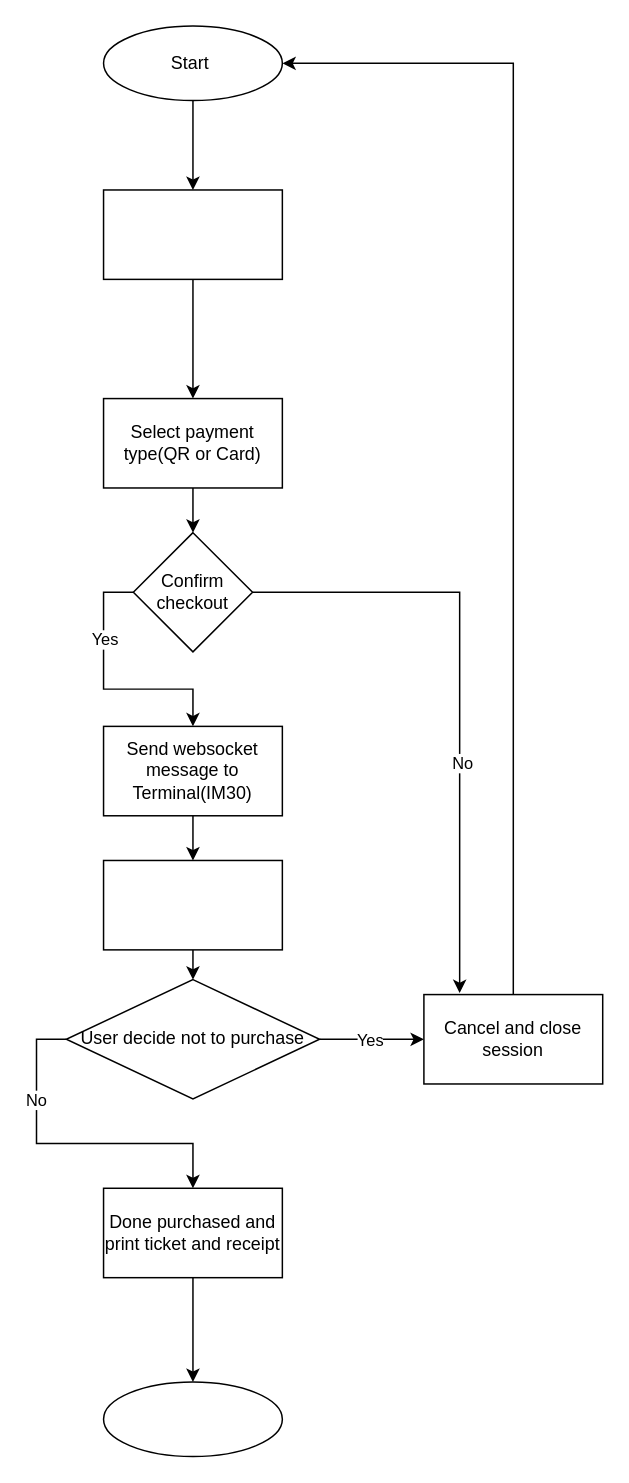
Some shapes in this 629 by 1483 pixel diagram are drawn without their labels. The centre of each missing label's shape, as x and y in pixels:
"End" belongs at (x=192, y=1418).
"Terminal allow user to scan card or QR" belongs at (x=192, y=904).
"User checkout purchased items" belongs at (x=192, y=233).
